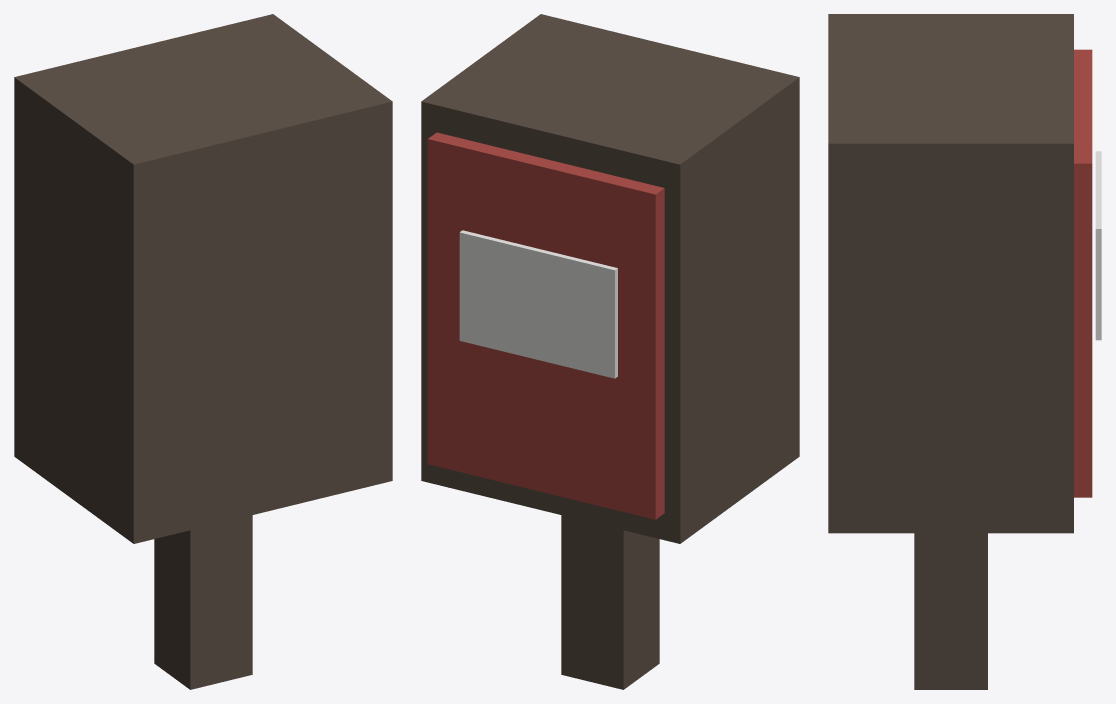
Rendered from prop_gyunyu_bako.glb.
3 renders of one model, left to right at view 1: azimuth 30°, elevation 25°; view 2: azimuth 150°, elevation 25°; view 3: azimuth 270°, elevation 25°, orthographic. The views are drawn at different scales.
Parts seen in each view (by area): view 1: gyunyu_bako; view 2: gyunyu_bako; view 3: gyunyu_bako.
Boxes of the visible parts, x1=… form: gyunyu_bako: x1=14, y1=14, x2=392, y2=689; gyunyu_bako: x1=421, y1=14, x2=799, y2=689; gyunyu_bako: x1=828, y1=14, x2=1101, y2=689.
Bounding box in the file's own units: 0.5 × 1.07 × 0.445.
